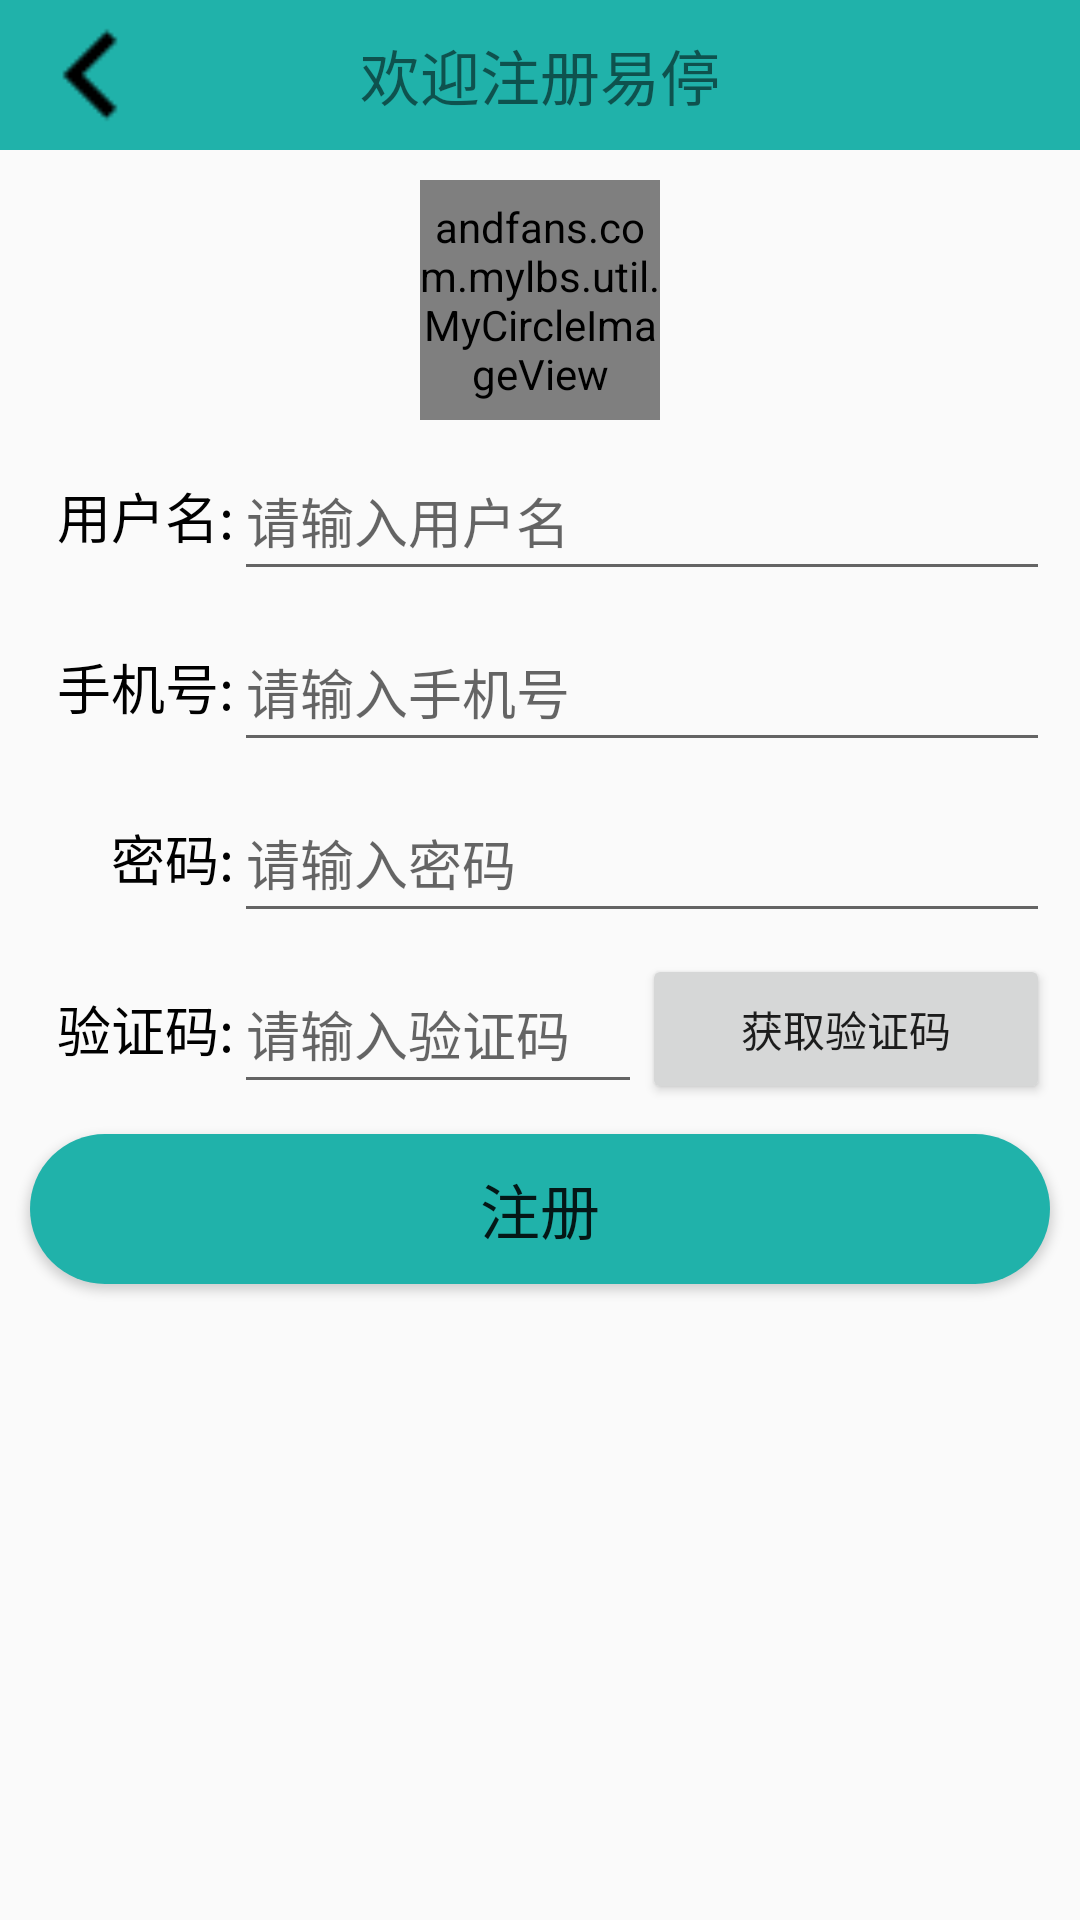

Where to tap for icons on this 1080px×1920px app screen, as (x=x, y=y):
back: (x=90, y=75)
